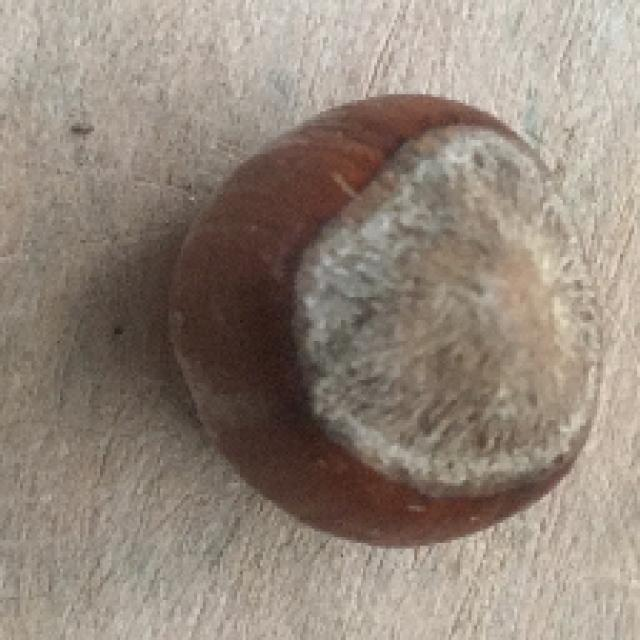qualityHazelnut: (145, 84, 609, 547)
